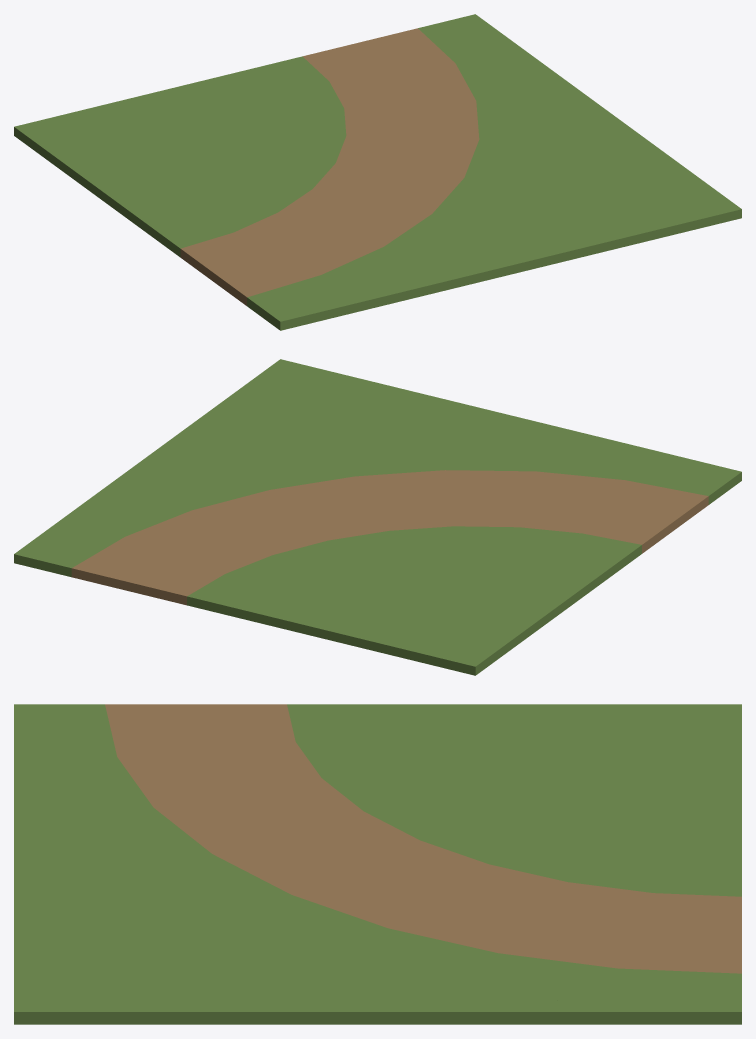
File: Road_1Lane_Dirt_NoSidewalk_Curve90_R.glb
3 renders of one model, top to bottom at view 1: azimuth 30°, elevation 25°; view 2: azimuth 150°, elevation 25°; view 3: azimuth 270°, elevation 25°, orthographic. The views are drawn at different scales.
Visible parts, largest first — view 1: Road_1Lane_Dirt_NoSidewalk_Curve90_R_Grass-edge, Road_1Lane_Dirt_NoSidewalk_Curve90_R_Dirt; view 2: Road_1Lane_Dirt_NoSidewalk_Curve90_R_Grass-edge, Road_1Lane_Dirt_NoSidewalk_Curve90_R_Dirt; view 3: Road_1Lane_Dirt_NoSidewalk_Curve90_R_Grass-edge, Road_1Lane_Dirt_NoSidewalk_Curve90_R_Dirt.
Part boxes in pixels (bbox=[...]): Road_1Lane_Dirt_NoSidewalk_Curve90_R_Grass-edge: bbox=[14, 14, 741, 330]; Road_1Lane_Dirt_NoSidewalk_Curve90_R_Dirt: bbox=[180, 28, 479, 305]; Road_1Lane_Dirt_NoSidewalk_Curve90_R_Grass-edge: bbox=[14, 359, 741, 675]; Road_1Lane_Dirt_NoSidewalk_Curve90_R_Dirt: bbox=[71, 470, 708, 605]; Road_1Lane_Dirt_NoSidewalk_Curve90_R_Grass-edge: bbox=[14, 704, 741, 1024]; Road_1Lane_Dirt_NoSidewalk_Curve90_R_Dirt: bbox=[105, 704, 741, 973].
Size of the model in its own units: 16 by 0.3 by 16.
